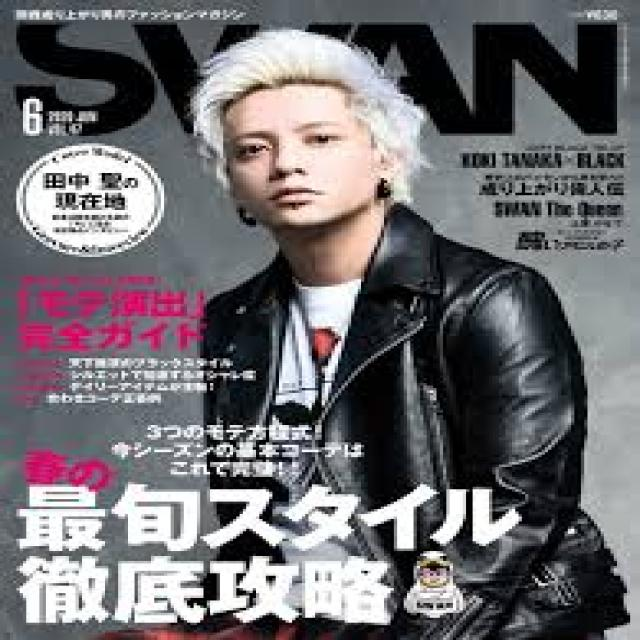paper: (0, 5, 608, 640)
